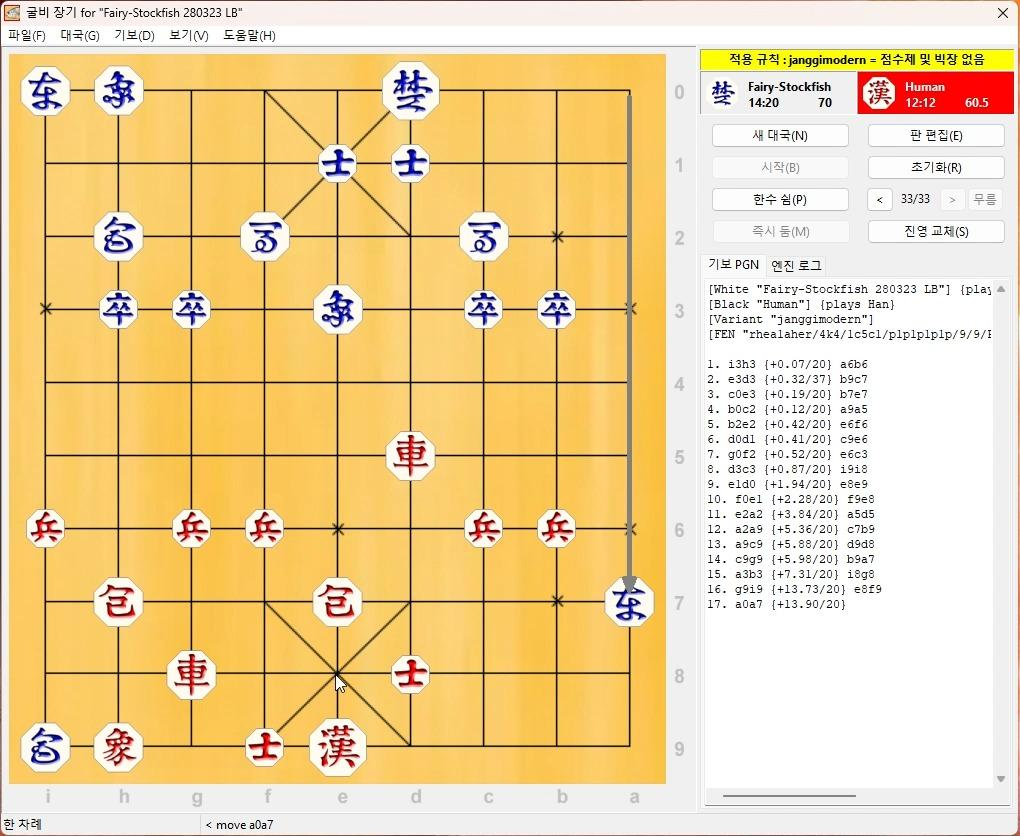cha_green: (605, 581, 655, 626), (21, 70, 69, 114)
cha_red: (170, 650, 220, 696), (386, 435, 434, 481)
jol_green: (466, 292, 505, 328), (171, 292, 210, 328), (98, 293, 137, 328), (539, 291, 578, 326)
jol_red: (465, 510, 503, 549), (172, 512, 213, 547), (537, 510, 575, 547), (243, 512, 283, 547), (25, 512, 65, 547)
ma_green: (240, 212, 289, 258), (459, 214, 507, 260)
po_green: (94, 217, 144, 262), (23, 724, 72, 768)
po_red: (315, 577, 363, 623), (95, 577, 144, 621)
sa_green: (317, 144, 357, 180), (394, 147, 433, 183)
sa_red: (391, 657, 430, 692), (245, 730, 286, 763)
sang_green: (313, 286, 363, 334), (94, 68, 143, 114)
sang_red: (93, 724, 144, 769)
wang_green: (382, 64, 439, 118)
wang_red: (310, 720, 368, 772)
